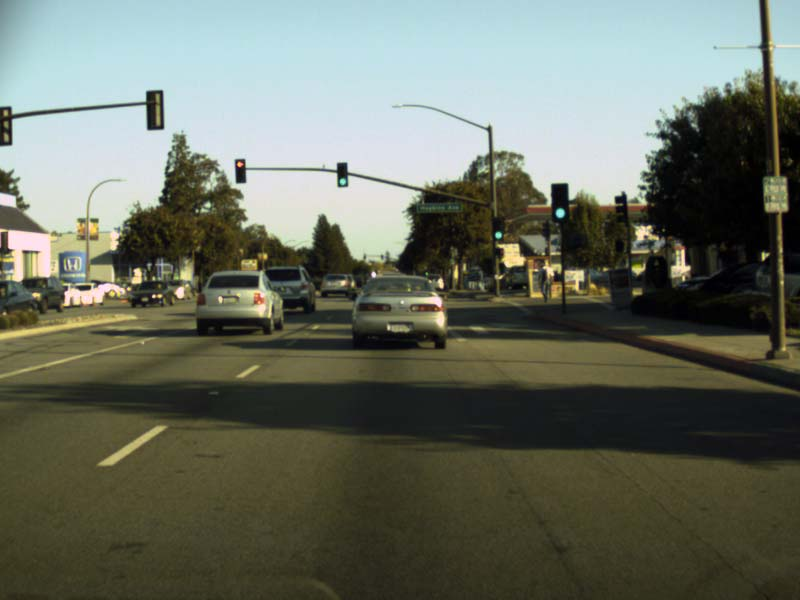Green: (551, 184, 569, 221), (336, 162, 348, 186), (491, 216, 503, 240)
Red: (235, 159, 245, 182)
